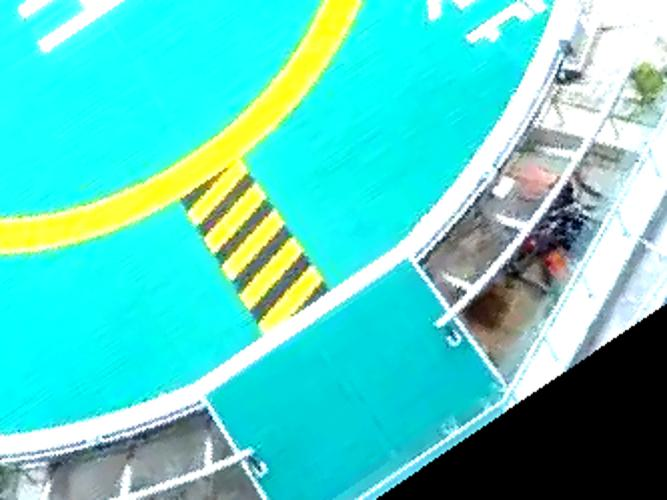Apron: (1, 1, 378, 266)
